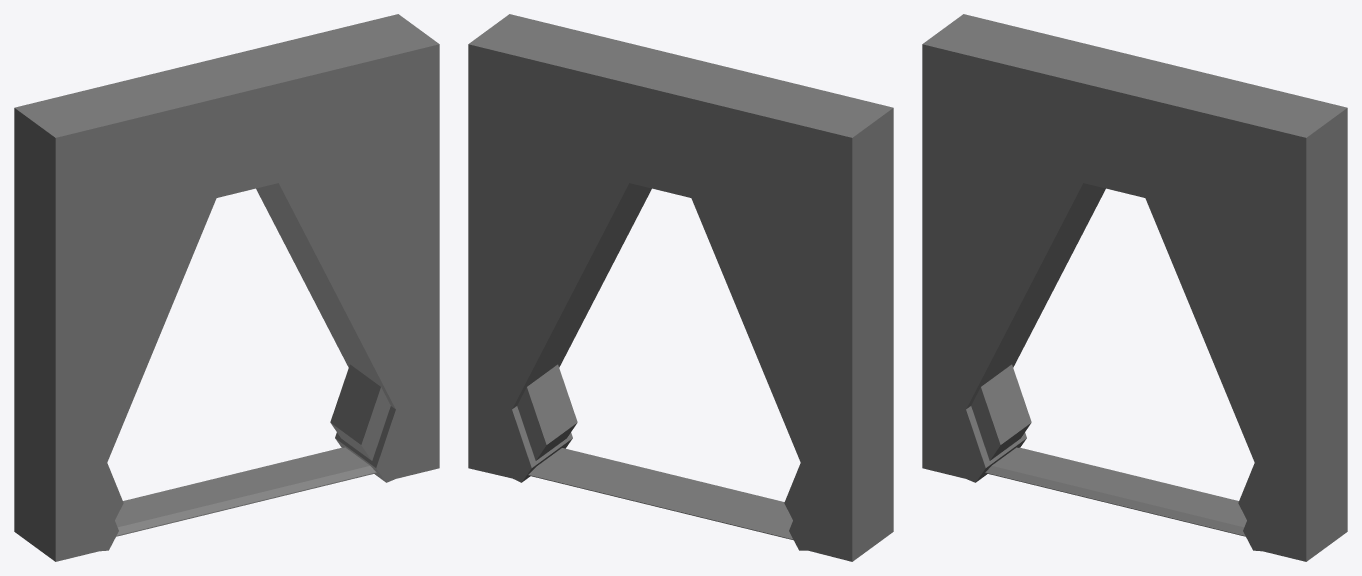
File: q-scifi-mod-door-frame-a.glb
3 renders of one model, left to right at view 1: azimuth 30°, elevation 25°; view 2: azimuth 150°, elevation 25°; view 3: azimuth 330°, elevation 25°, orthographic.
Parts seen in each view (by area): view 1: Door_Frame_A; view 2: Door_Frame_A; view 3: Door_Frame_A.
Part boxes in pixels (x1,y1,x2,y2): Door_Frame_A: [14, 14, 439, 561]; Door_Frame_A: [468, 14, 893, 561]; Door_Frame_A: [922, 14, 1347, 561].
Size of the model in its own units: 4.87 by 5.16 by 0.9274.
Materials: 3 (3 with a texture image).
